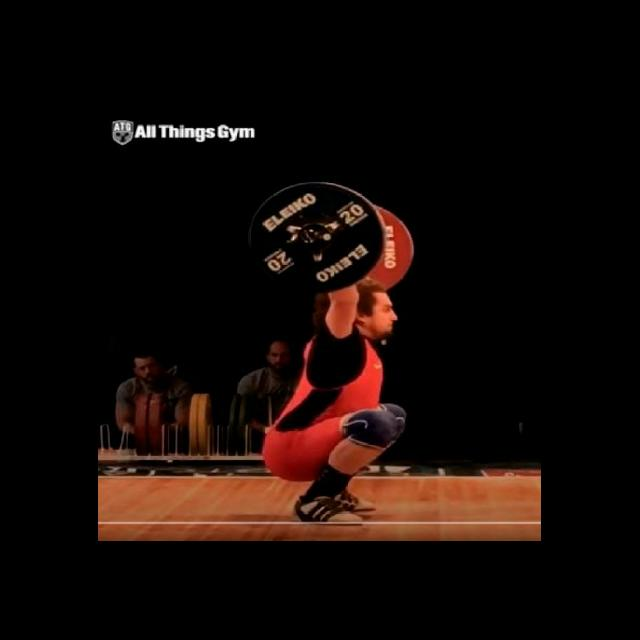barbell: (244, 178, 392, 298)
